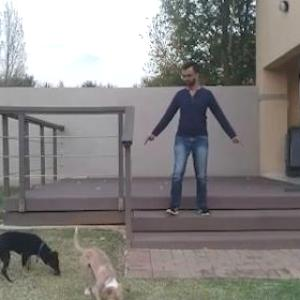land: (149, 64, 237, 228)
